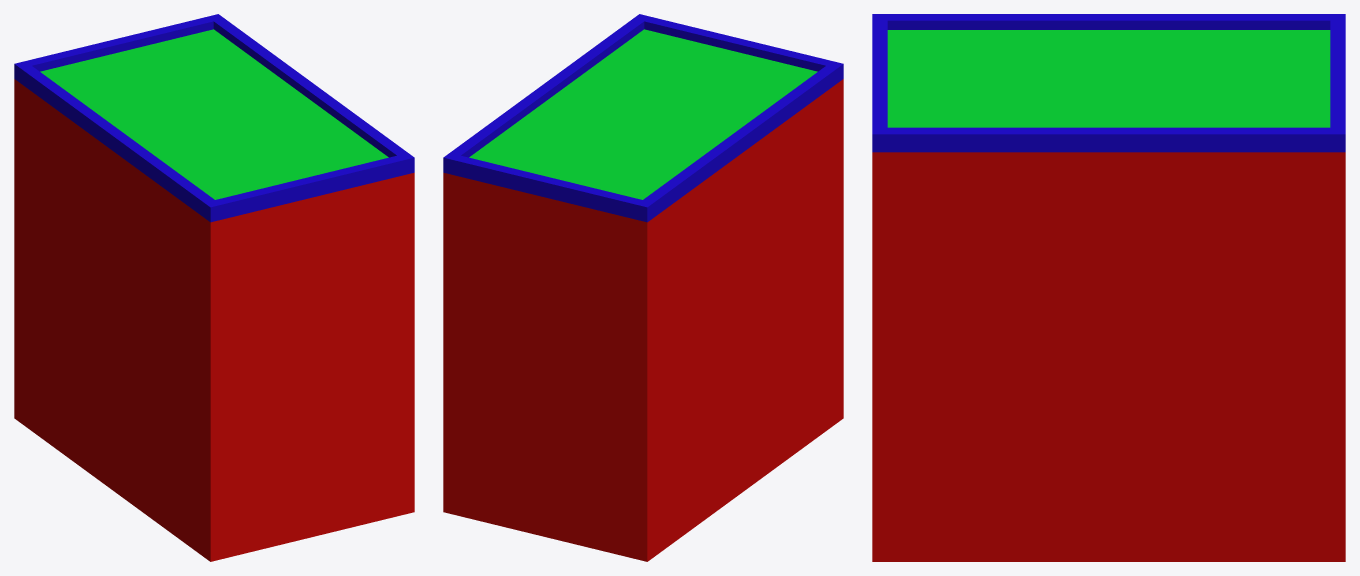
The model's file is Building6.fbx.
The picture shows the model from 3 angles, left to right: view 1: azimuth 30°, elevation 25°; view 2: azimuth 150°, elevation 25°; view 3: azimuth 270°, elevation 25°; orthographic projection. The views are drawn at different scales.
Parts seen in each view (by area): view 1: Cube.005; view 2: Cube.005; view 3: Cube.005.
Boxes of the visible parts, bbox=[...] form: Cube.005: bbox=[14, 14, 414, 561]; Cube.005: bbox=[443, 14, 843, 561]; Cube.005: bbox=[872, 14, 1345, 561].
Bounding box in the file's own units: 710 × 1178 × 1182.
